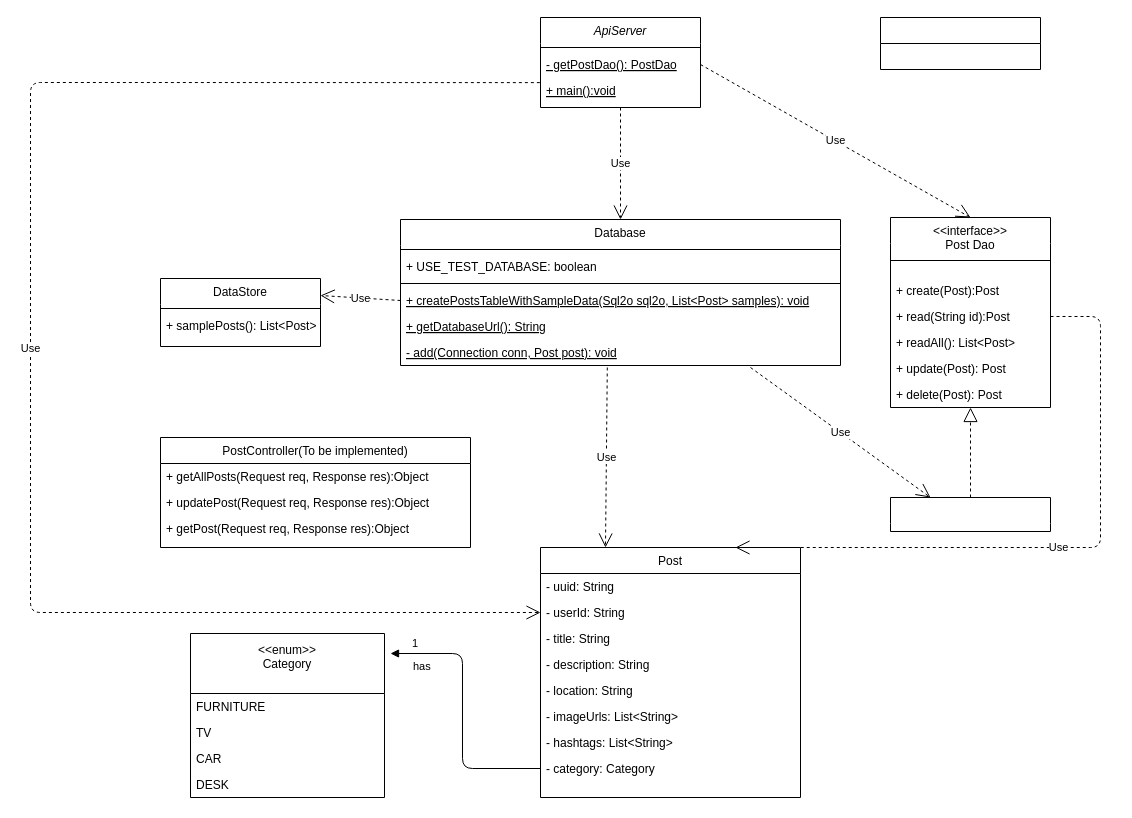
The diagram is 1132 pixels wide and 818 high, and some of its shapes have lost their labels. The centre of each missing label's shape, as x and y in pixels:
Frontend: pixel 960 43
Sql2oPostDao: pixel 970 514
